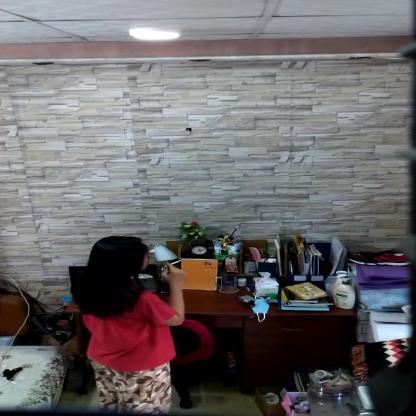cigarette: (170, 259, 184, 265)
person: (78, 234, 189, 414)
